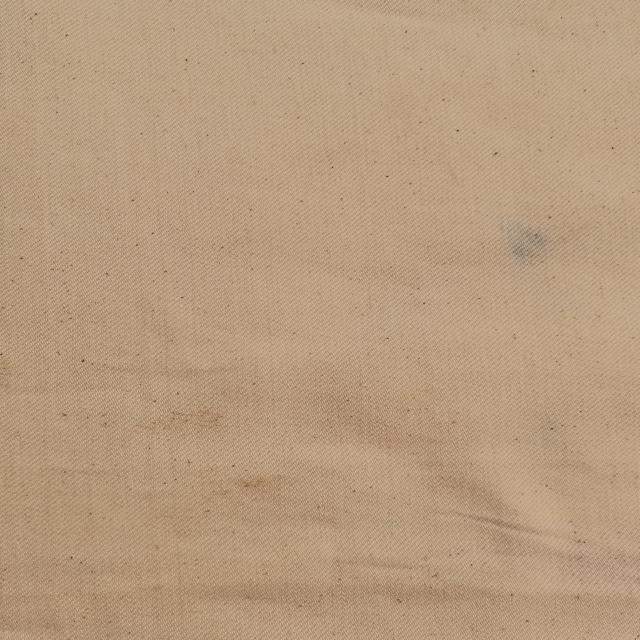taaaches: (492, 216, 558, 268), (122, 401, 229, 433), (0, 347, 16, 384)
